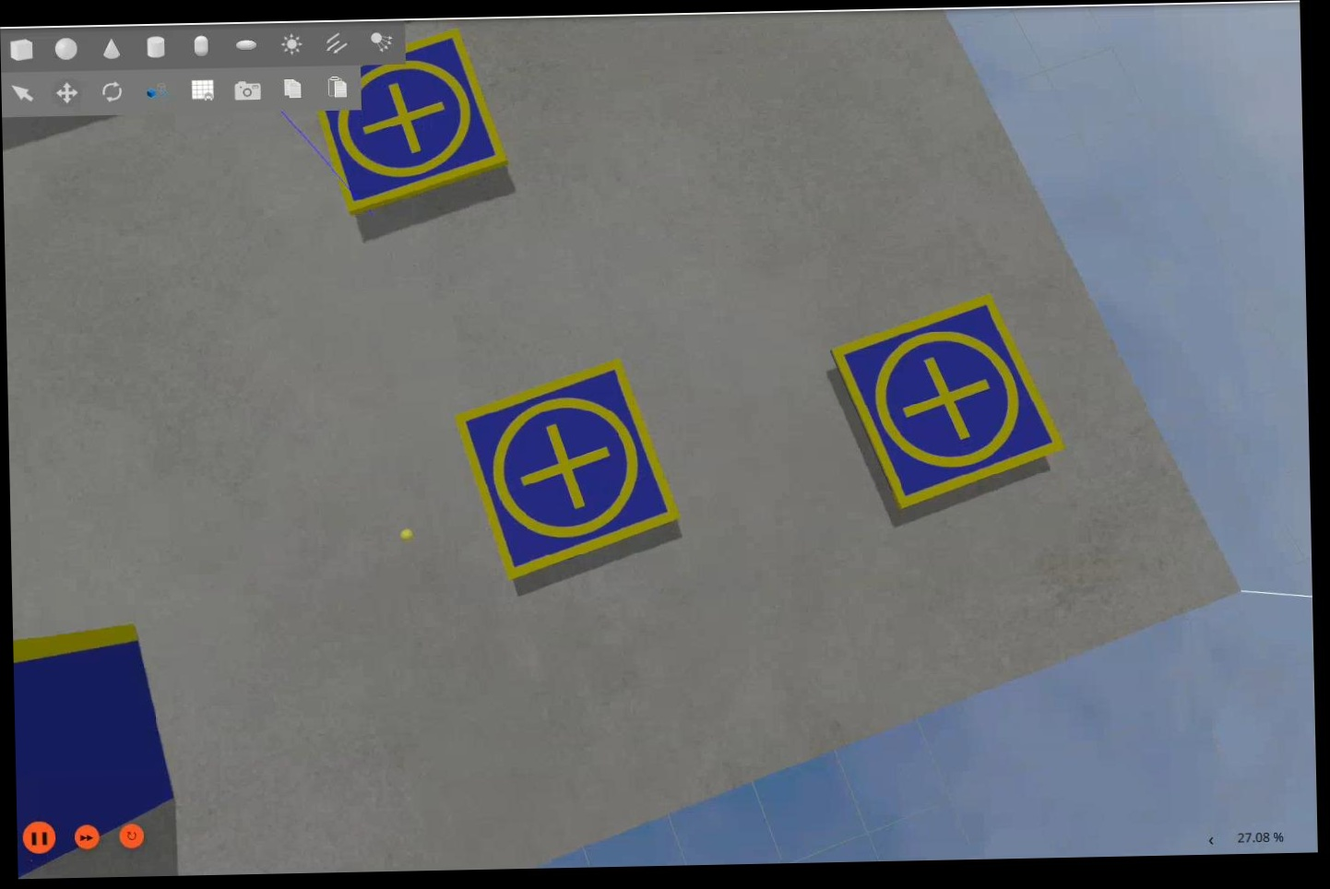small_base: (829, 295, 1070, 514), (457, 359, 681, 582), (308, 26, 509, 218)
